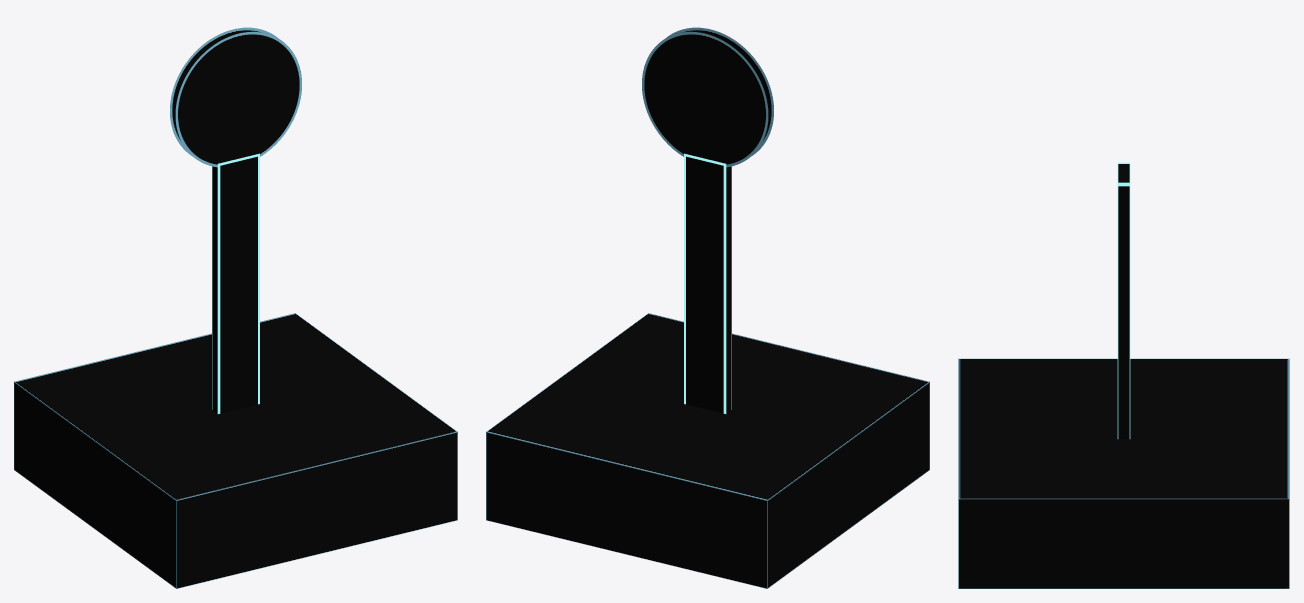
File: Lever.fbx
3 renders of one model, left to right at view 1: azimuth 30°, elevation 25°; view 2: azimuth 150°, elevation 25°; view 3: azimuth 270°, elevation 25°, orthographic. The views are drawn at different scales.
Parts seen in each view (by area): view 1: Cube, Plane_1, Cube_1, Plane; view 2: Cube, Plane, Cube_1, Plane_1; view 3: Cube, Cube_1.
Boxes of the visible parts, bbox=[...] form: Cube: bbox=[14, 313, 457, 588]; Plane_1: bbox=[175, 31, 301, 167]; Cube_1: bbox=[212, 153, 259, 413]; Plane: bbox=[170, 27, 278, 155]; Cube: bbox=[486, 313, 929, 588]; Plane: bbox=[642, 31, 768, 167]; Cube_1: bbox=[684, 153, 731, 413]; Plane_1: bbox=[665, 27, 773, 155]; Cube: bbox=[958, 358, 1289, 588]; Cube_1: bbox=[1117, 162, 1130, 439].
Size of the model in its own units: 100 by 157 by 100.
Materials: 4 (2 with a texture image).
